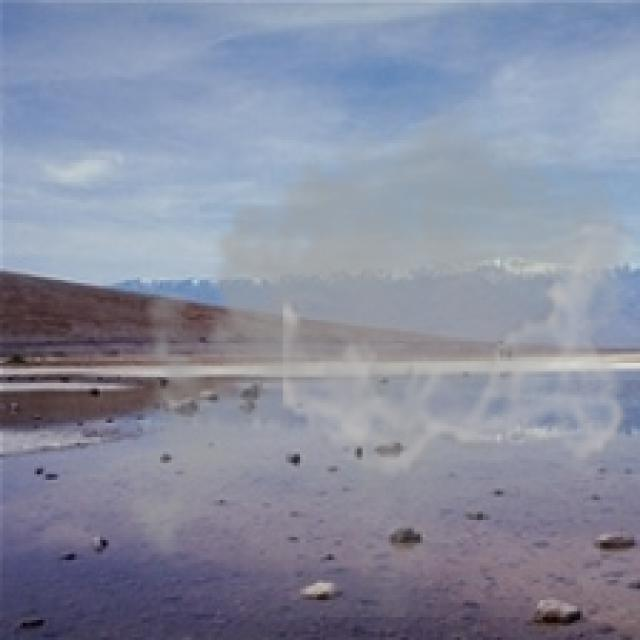Smoke: (108, 85, 638, 620)
